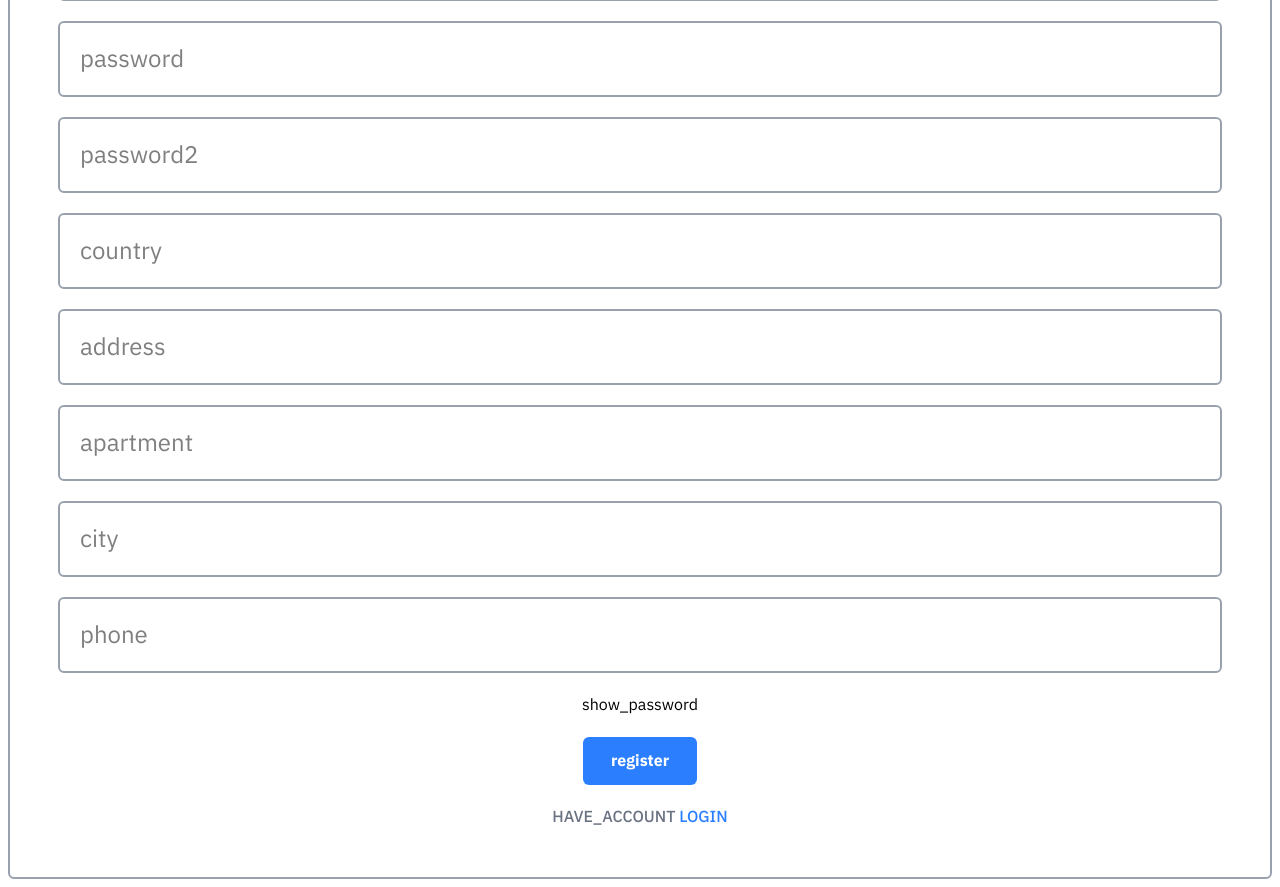
Register Component › toggles password visibility
(page scrolled)
Click the button "show_password" at coordinates (640, 705), box [582,693,698,717]
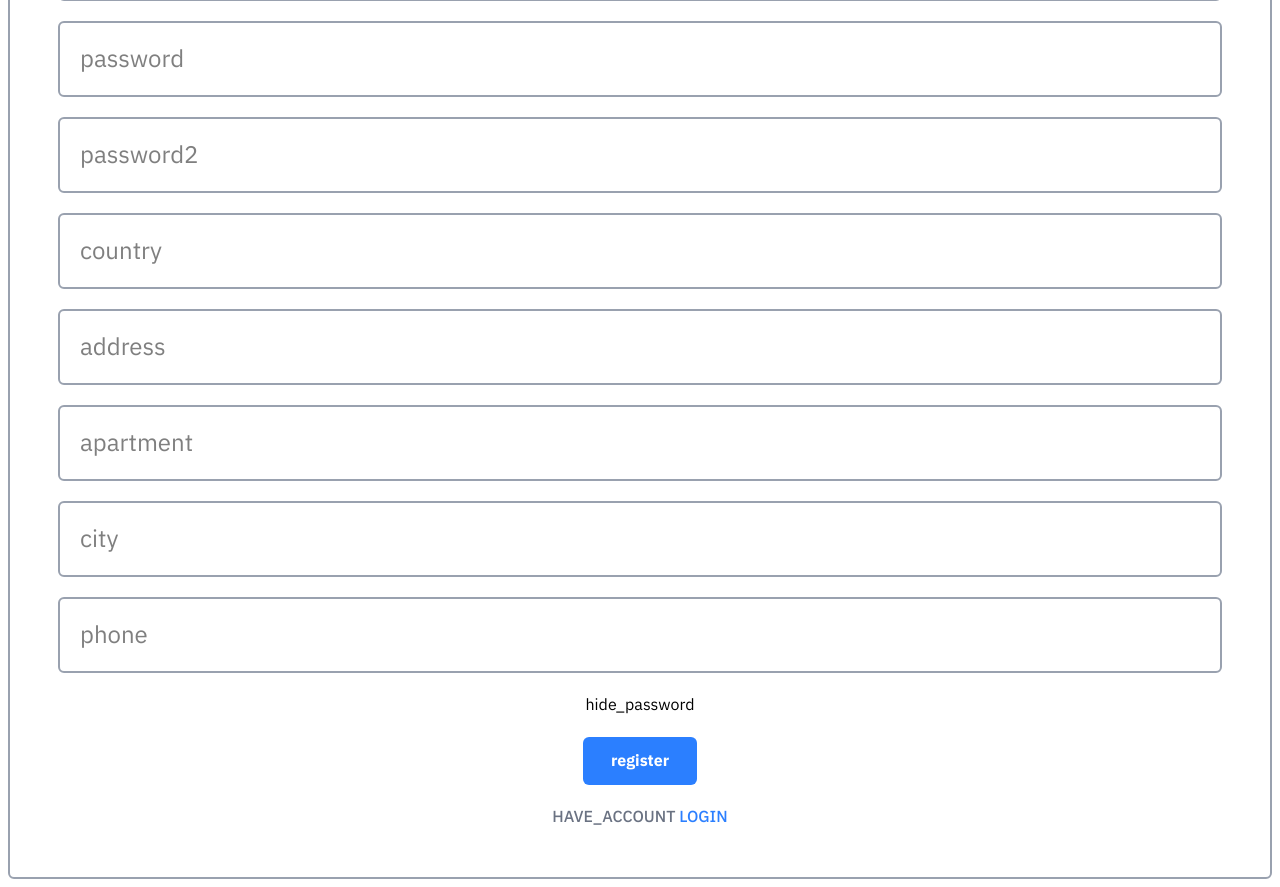
Now the button "hide_password" is shown, box [586,693,694,717]
